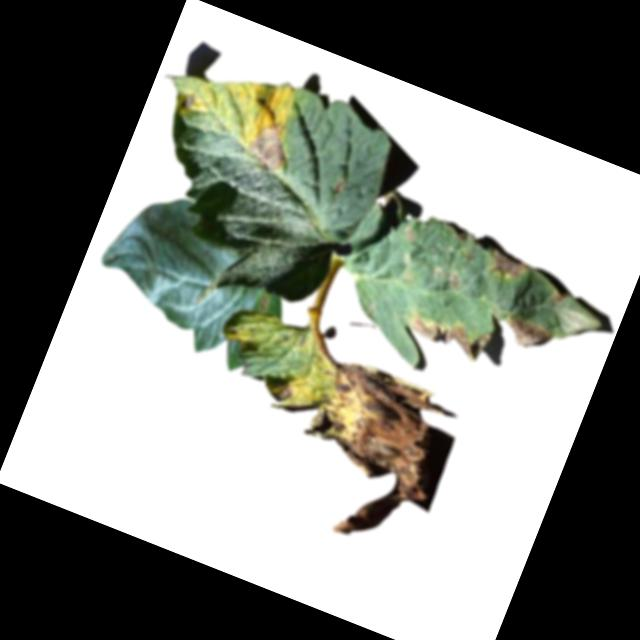Early_blight: (278, 353, 464, 560), (394, 300, 493, 366), (245, 111, 300, 175), (497, 310, 555, 357), (482, 247, 530, 285), (264, 373, 296, 405), (176, 86, 201, 113), (548, 289, 569, 309), (446, 271, 466, 291), (257, 293, 271, 309)
